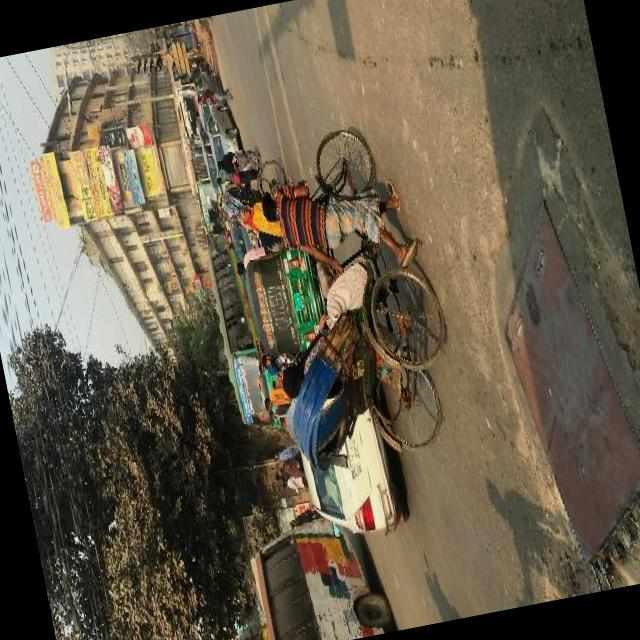bus: (243, 504, 394, 640), (201, 240, 287, 432), (158, 22, 202, 140), (188, 147, 224, 239)
car: (295, 402, 415, 542), (200, 99, 247, 182), (190, 66, 229, 134)
motorcycle: (238, 116, 467, 474), (238, 240, 330, 358), (219, 156, 297, 256)
truck: (194, 114, 222, 197)
